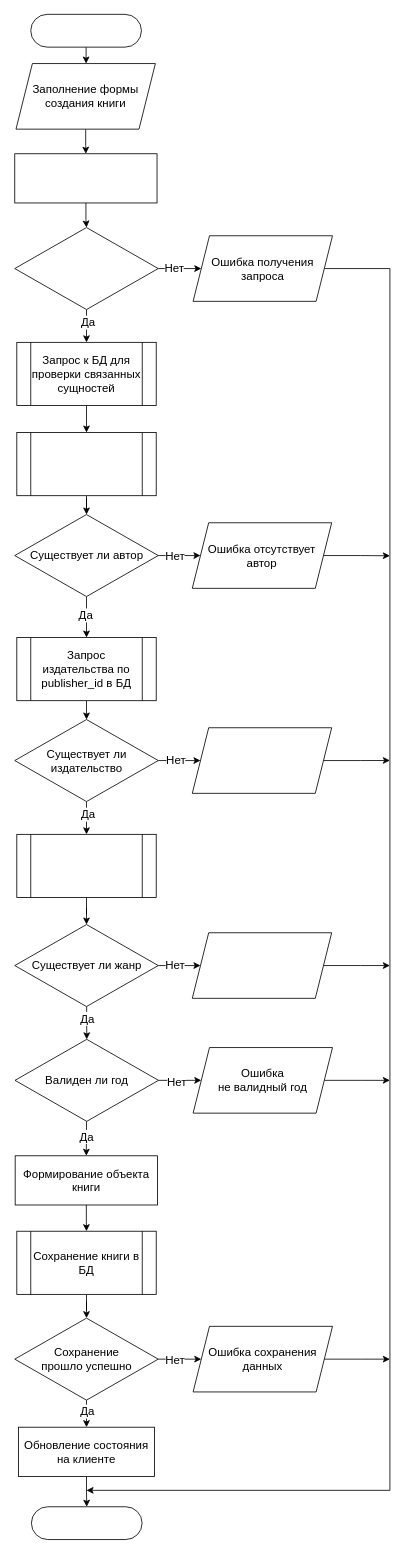
Image size: 411x1554. Some labels were removed from this diagram. The shapes that lost their labels are listed below. From the top down, each one's box as (x1, y1, x2, y2) in pixels, then its label:
(30, 14, 141, 47): Начало
(14, 153, 157, 203): Отправка данных на сервер
(14, 227, 158, 310): Запрос получен сервером?
(16, 432, 156, 496): Запрос автора по author_id в БД
(191, 727, 332, 793): Ошибка отсутствует издательство
(16, 834, 156, 897): Запрос жанра по genre_id в БД
(191, 932, 332, 998): Ошибка отсутствует жанр
(31, 1506, 142, 1540): Конец
